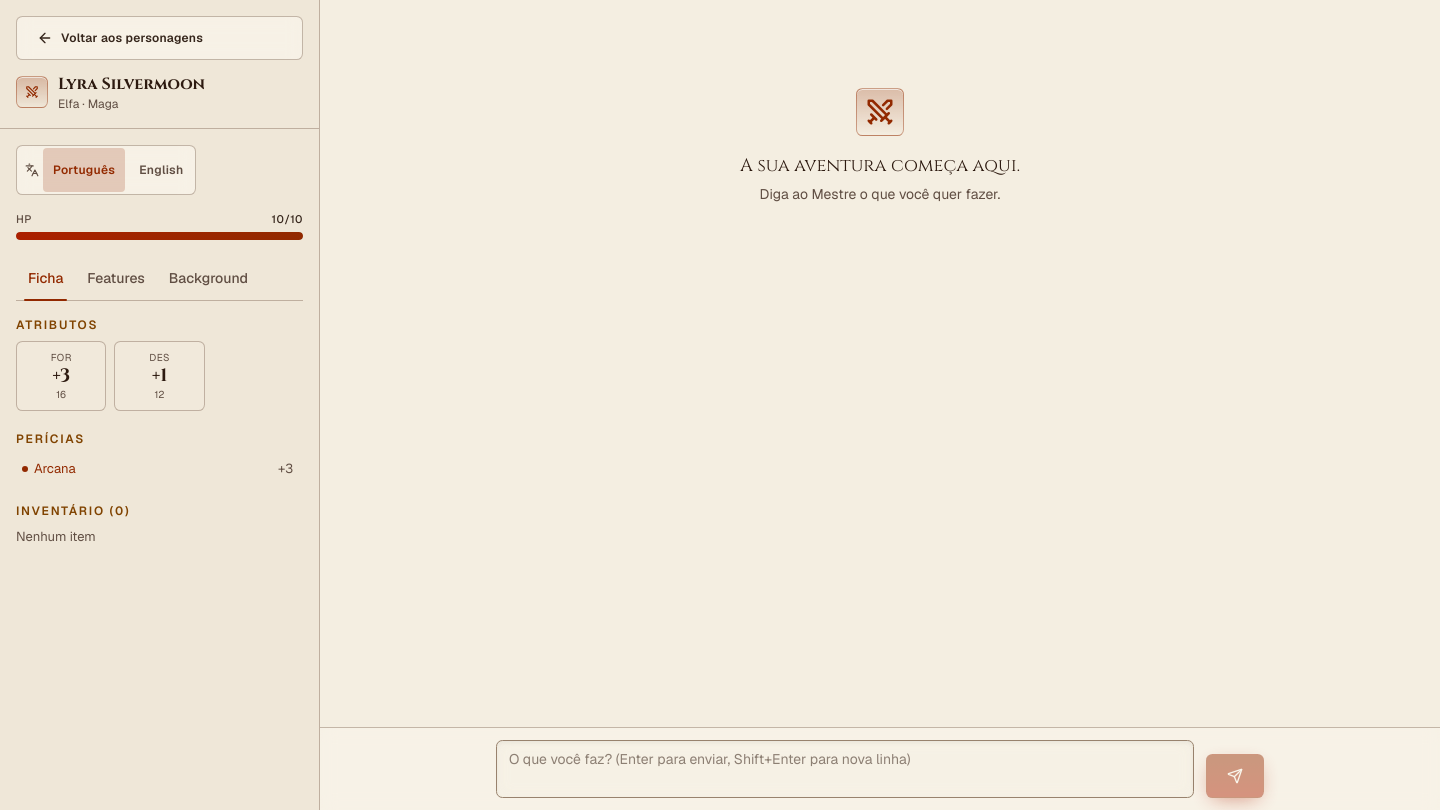
GameView — abas na ficha (US-45) › com background vazio ({}) a aba Background continua presente e mostra o empty state
The image size is (1440, 810).
Click the tab "Background": point(208, 278) [157,256,260,300]
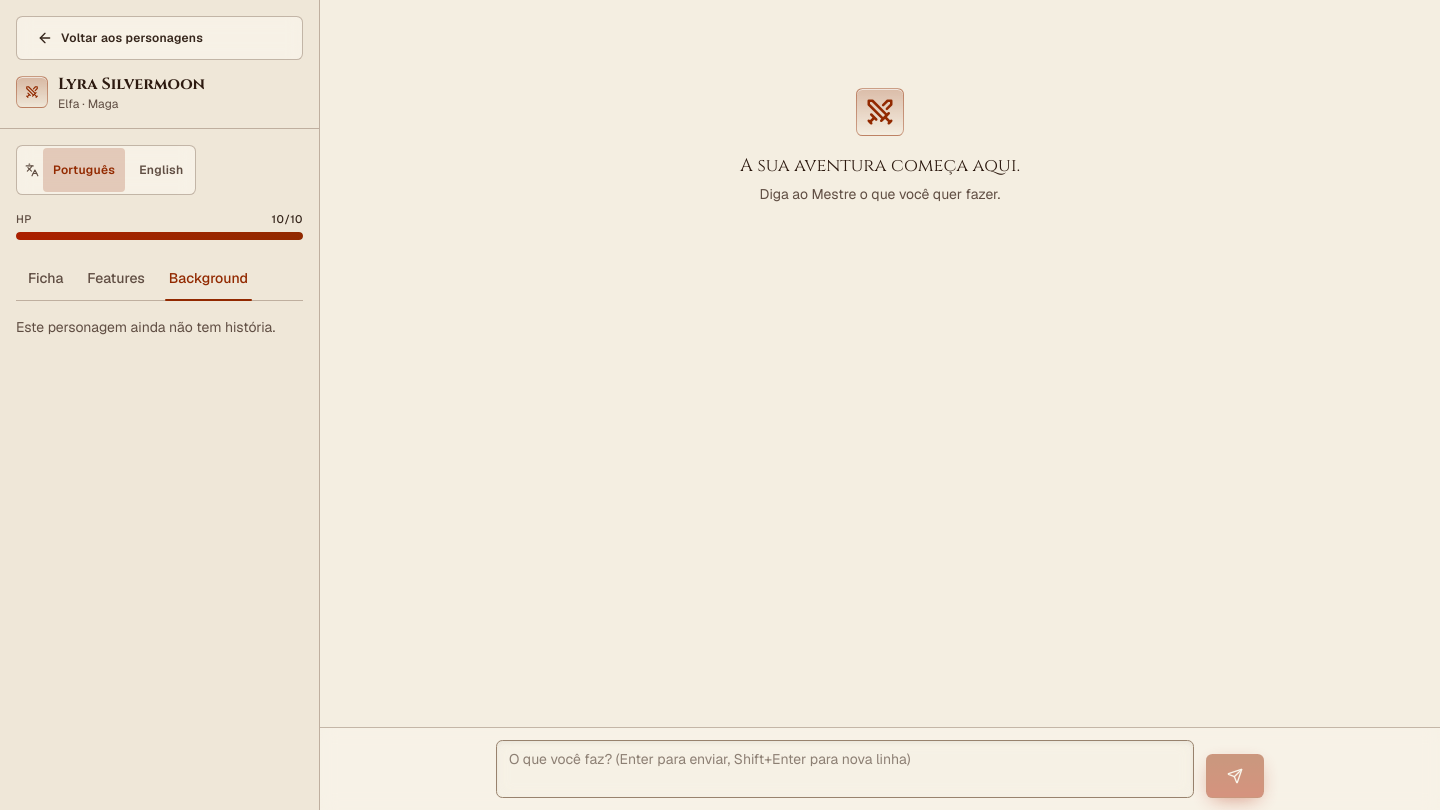
Expected: the text "Este personagem ainda não tem história." is shown, [16,316,303,336]
